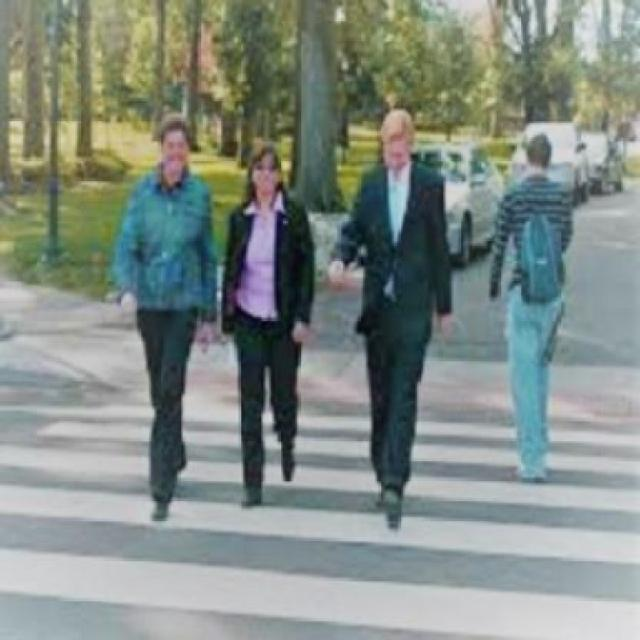obstacle: (326, 104, 454, 541), (120, 116, 222, 518), (220, 146, 322, 509), (487, 126, 578, 488)
